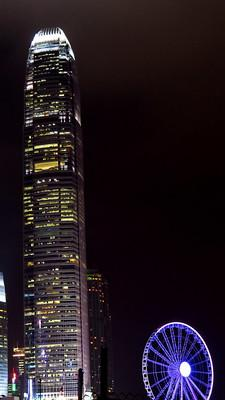building: (16, 22, 95, 399)
